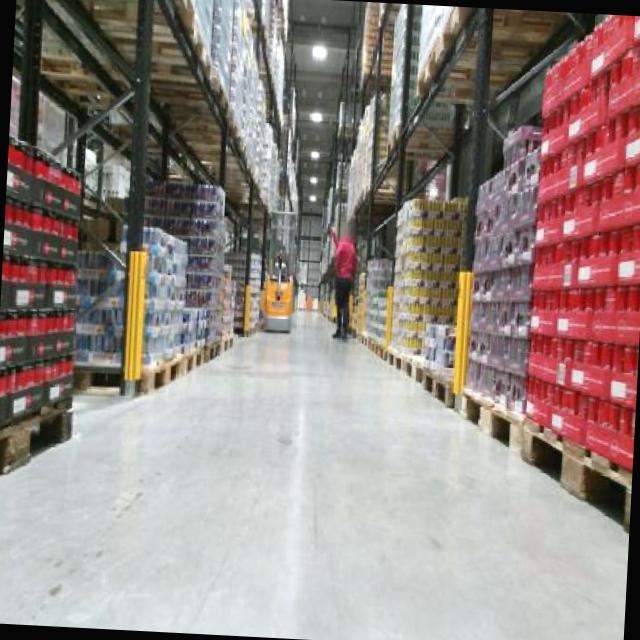pallet: (520, 412, 636, 532), (0, 397, 81, 497), (406, 348, 460, 410), (468, 384, 512, 450), (356, 326, 396, 362), (139, 356, 186, 386)
